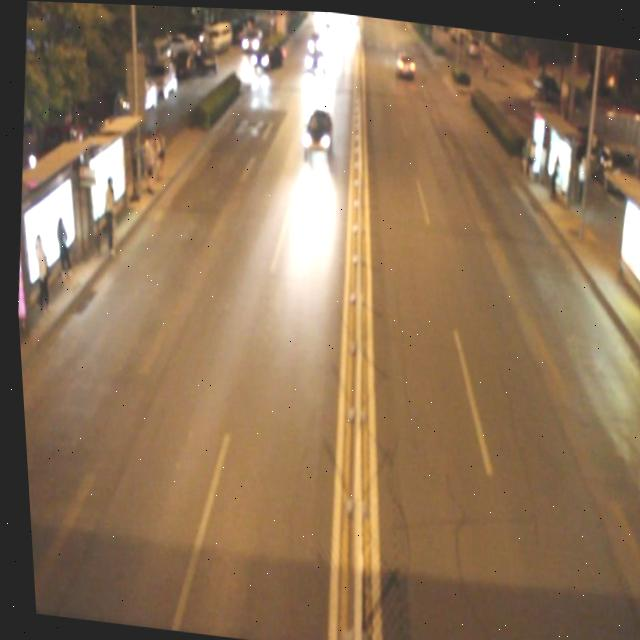car: (297, 102, 335, 155)
